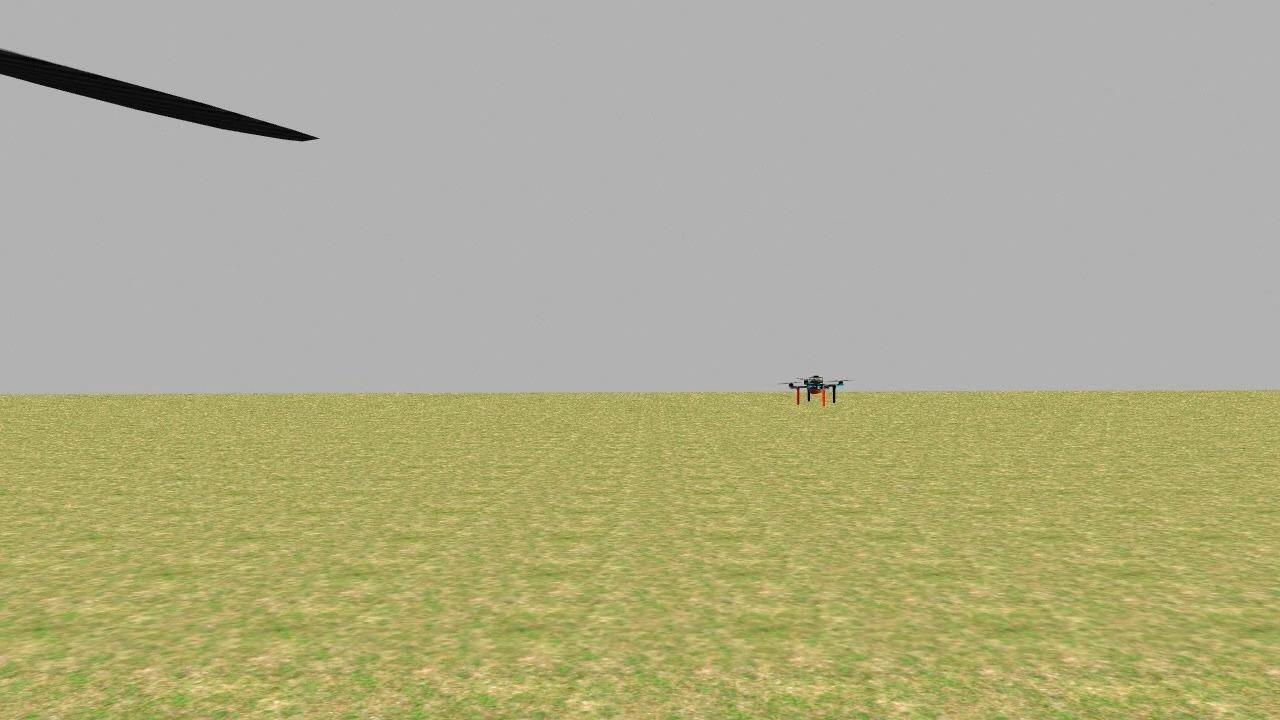UAV: (777, 359, 853, 418)
